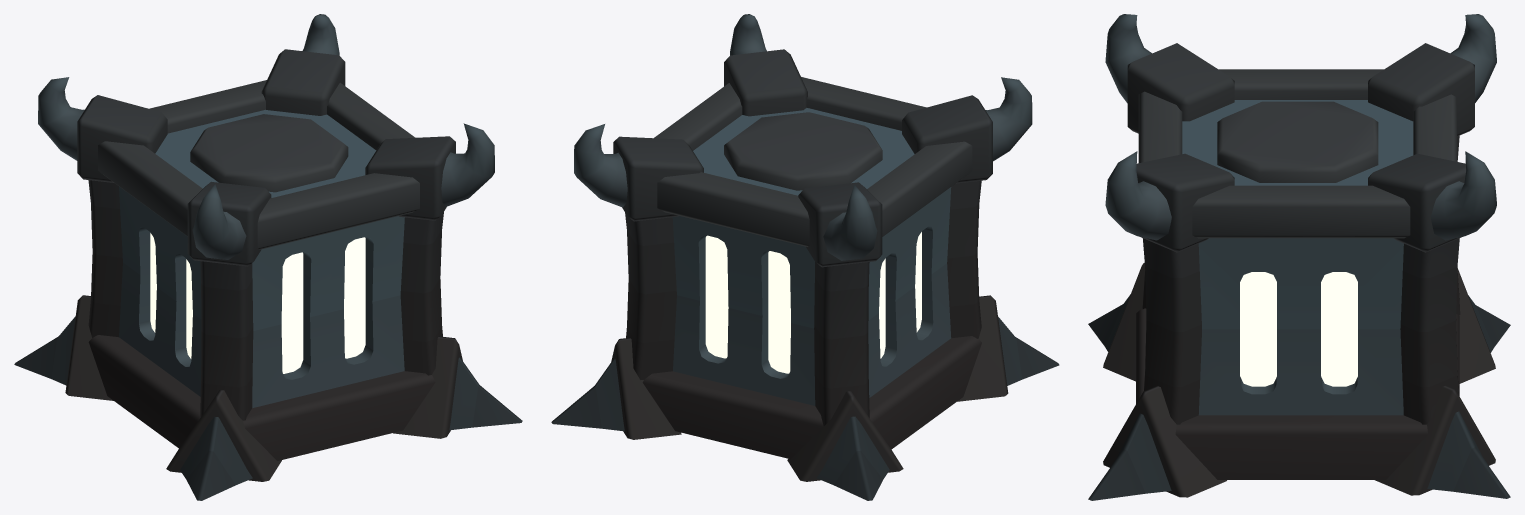
3 renders of one model, left to right at view 1: azimuth 30°, elevation 25°; view 2: azimuth 150°, elevation 25°; view 3: azimuth 270°, elevation 25°, orthographic. The views are drawn at different scales.
Parts seen in each view (by area): view 1: Box_001; view 2: Box_001; view 3: Box_001.
Part boxes in pixels (box(x1,y1,x2,y2)): Box_001: box(14, 14, 522, 500); Box_001: box(551, 14, 1059, 500); Box_001: box(1088, 14, 1510, 500).
Bounding box in the file's own units: 0.7909 × 0.6846 × 0.7915.
